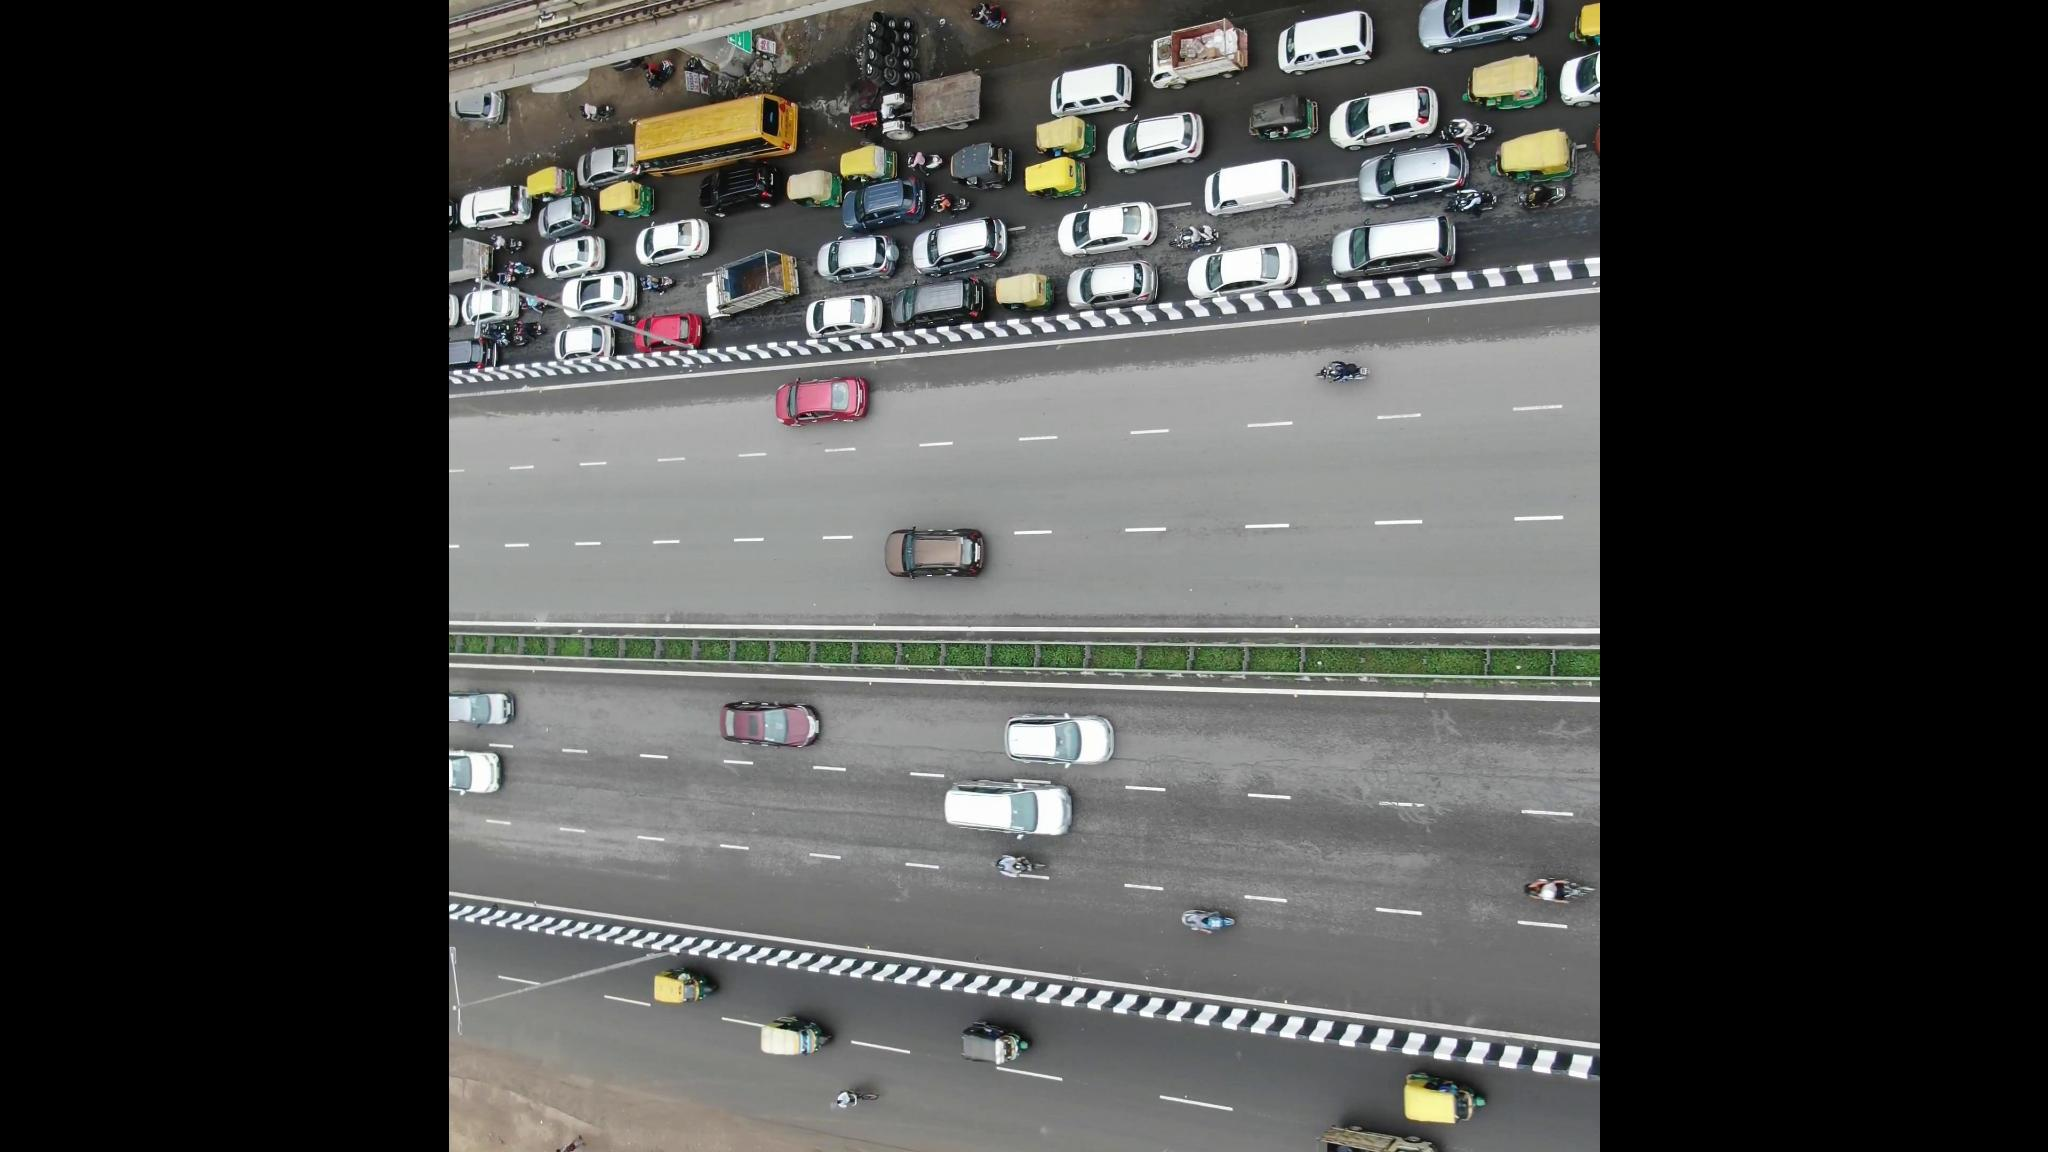Cracks: (1132, 705, 1356, 866), (1362, 715, 1587, 838), (525, 712, 705, 828)
